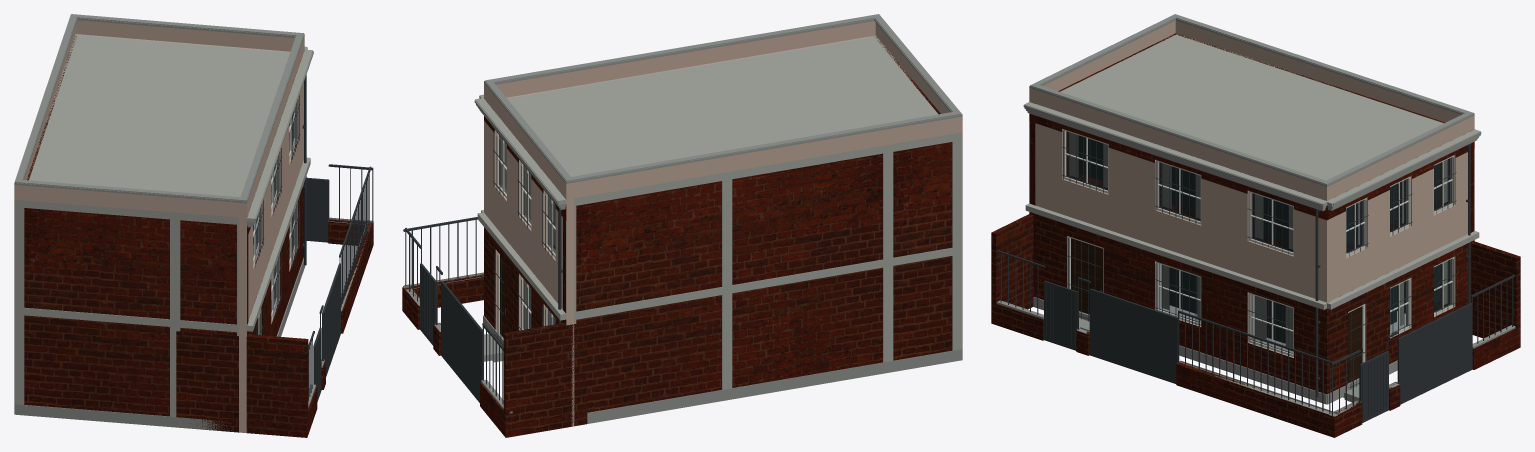
The model's file is building.glb.
3 views of the same model, side by side, from view 1: azimuth 30°, elevation 25°; view 2: azimuth 150°, elevation 25°; view 3: azimuth 270°, elevation 25° (orthographic). The views are drawn at different scales.
Visible parts, largest first — view 1: main:0/edge0/z0/main:0/edge0/z0/wall_0_0, roof/main:0/roof_slab#0001, site/fence/0/wall#0001, roof/main:0/parapet#0001, roof/main:0/parapet_cap#0002, main:0/edge1/z0/main:0/edge1/z0/wall_0_0/core0, main:0/edge0/z0/plinth#0001, roof/main:0/parapet_cap#0001, main:0/edge1/z0/main:0/edge1/z0/coating_0_0_0, main:0/edge0/z0/main:0/edge0/z0/beam_0_0, main:0/edge0/z0/main:0/edge0/z0/beam_1_0, main:0/edge1/z0/main:0/edge1/z0/wall_0_0/clip1 (+14 smaller); view 2: main:0/edge3/z0/main:0/edge3/z0/wall_0_0, roof/main:0/roof_slab#0001, roof/main:0/parapet#0001, site/fence/3/wall#0001, main:0/edge2/z0/main:0/edge2/z0/wall_0_0/core0, roof/main:0/parapet_cap#0002, main:0/edge3/z0/plinth#0001, main:0/edge3/z0/main:0/edge3/z0/beam_0_0, main:0/edge3/z0/main:0/edge3/z0/beam_1_0, site/fence/2/garage_door#0001, roof/main:0/parapet_cap#0001, main:0/edge2/z0/main:0/edge2/z0/coating_0_0_0 (+13 smaller); view 3: roof/main:0/roof_slab#0001, main:0/edge1/z0/main:0/edge1/z0/wall_0_0/core0, main:0/edge1/z0/main:0/edge1/z0/coating_0_0_0, roof/main:0/parapet#0001, main:0/edge2/z0/main:0/edge2/z0/wall_0_0/core0, main:0/edge2/z0/main:0/edge2/z0/coating_0_0_0, site/fence/1/garage_door#0001, site/fence/2/garage_door#0001, roof/main:0/parapet_cap#0002, site/fence/3/wall#0001, site/fence/1/boundary_base#0003, site/fence/0/wall#0001 (+39 smaller).
Part boxes in pixels (x1,y1,x2,y2): main:0/edge0/z0/main:0/edge0/z0/wall_0_0: (24, 208, 248, 416); roof/main:0/roof_slab#0001: (14, 34, 290, 222); site/fence/0/wall#0001: (176, 331, 308, 437); roof/main:0/parapet#0001: (14, 20, 304, 217); roof/main:0/parapet_cap#0002: (15, 14, 303, 200); main:0/edge1/z0/main:0/edge1/z0/wall_0_0/core0: (248, 82, 303, 334); main:0/edge0/z0/plinth#0001: (14, 404, 231, 430); roof/main:0/parapet_cap#0001: (14, 14, 304, 203); main:0/edge1/z0/main:0/edge1/z0/coating_0_0_0: (247, 187, 303, 336); main:0/edge0/z0/main:0/edge0/z0/beam_0_0: (14, 307, 238, 332); main:0/edge0/z0/main:0/edge0/z0/beam_1_0: (14, 199, 238, 224); main:0/edge1/z0/main:0/edge1/z0/wall_0_0/clip1: (239, 217, 246, 432); main:0/edge3/z0/main:0/edge3/z0/wall_0_0: (563, 142, 952, 412); roof/main:0/roof_slab#0001: (507, 35, 961, 203); roof/main:0/parapet#0001: (484, 21, 962, 199); site/fence/3/wall#0001: (503, 321, 587, 436); main:0/edge2/z0/main:0/edge2/z0/wall_0_0/core0: (484, 120, 562, 330); roof/main:0/parapet_cap#0002: (485, 14, 961, 181); main:0/edge3/z0/plinth#0001: (587, 349, 962, 423); main:0/edge3/z0/main:0/edge3/z0/beam_0_0: (574, 246, 962, 319); main:0/edge3/z0/main:0/edge3/z0/beam_1_0: (574, 132, 962, 205); site/fence/2/garage_door#0001: (441, 281, 482, 402); roof/main:0/parapet_cap#0001: (484, 18, 962, 183); main:0/edge2/z0/main:0/edge2/z0/coating_0_0_0: (484, 227, 566, 332); roof/main:0/roof_slab#0001: (1060, 34, 1443, 180); main:0/edge1/z0/main:0/edge1/z0/wall_0_0/core0: (1035, 123, 1326, 357); main:0/edge1/z0/main:0/edge1/z0/coating_0_0_0: (1029, 212, 1326, 394); roof/main:0/parapet#0001: (1029, 20, 1474, 200); main:0/edge2/z0/main:0/edge2/z0/wall_0_0/core0: (1327, 152, 1467, 361); main:0/edge2/z0/main:0/edge2/z0/coating_0_0_0: (1327, 240, 1474, 394); site/fence/1/garage_door#0001: (1089, 288, 1177, 383); site/fence/2/garage_door#0001: (1397, 303, 1472, 404); roof/main:0/parapet_cap#0002: (1030, 14, 1473, 184); site/fence/3/wall#0001: (1471, 241, 1520, 340); site/fence/1/boundary_base#0003: (1176, 362, 1334, 437); site/fence/0/wall#0001: (991, 214, 1033, 323).
Bounding box in the file's own units: 12.53 × 6.39 × 13.69.
Materials: 10 (2 with a texture image).
